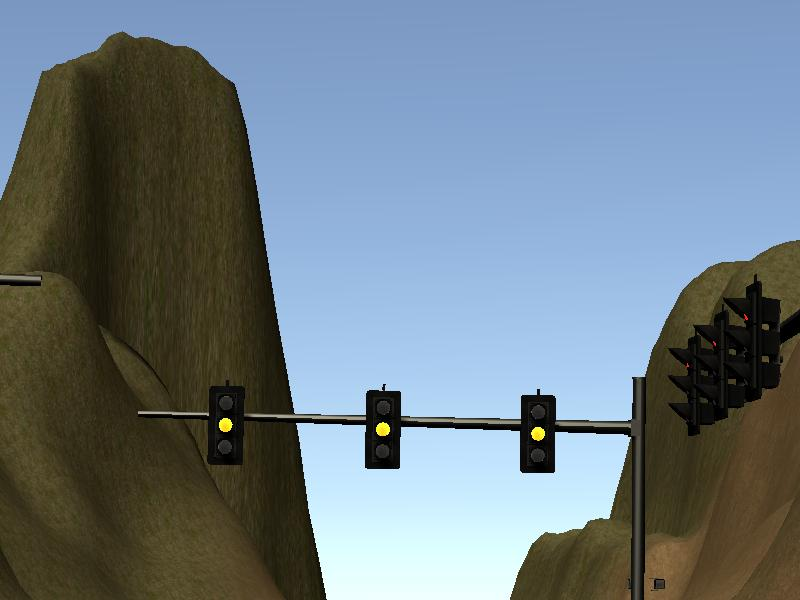Yellow: (364, 389, 400, 468), (520, 396, 555, 472), (210, 385, 241, 464)
